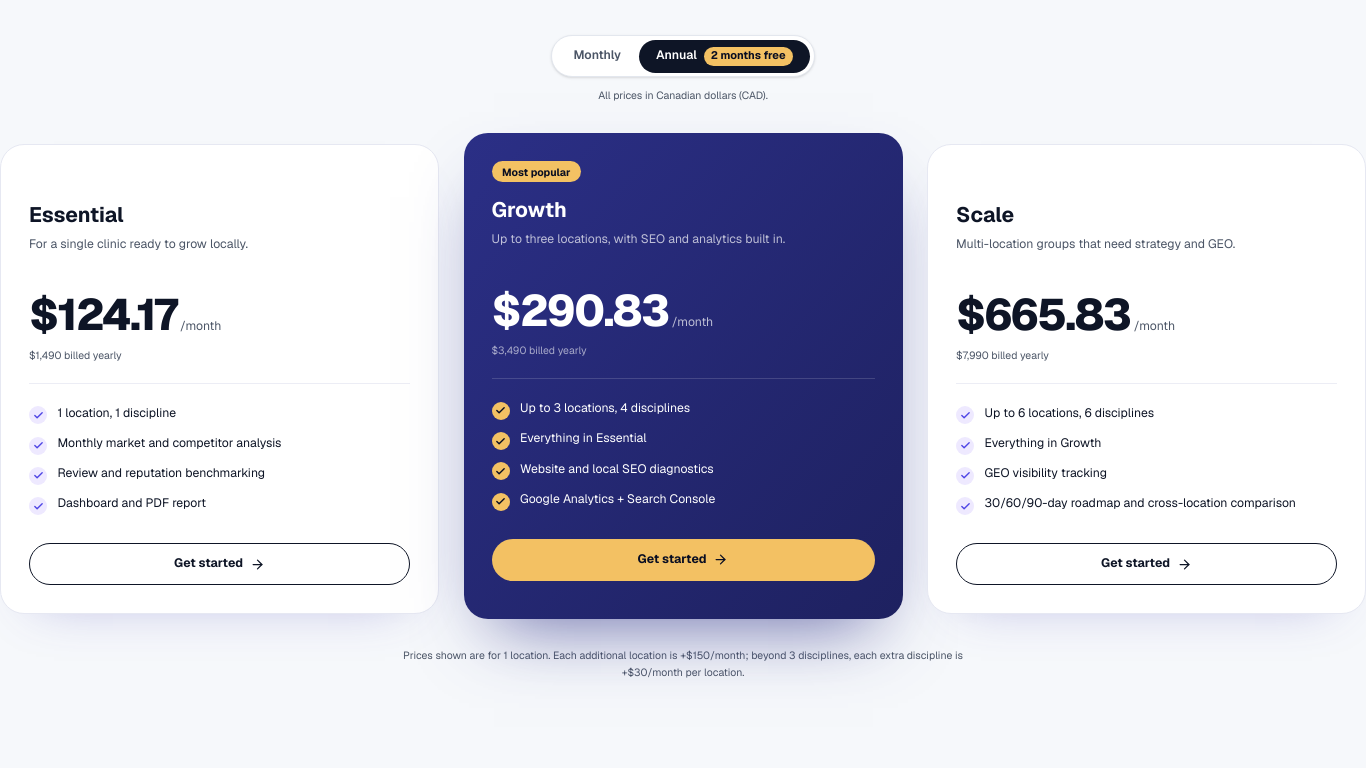
Test case: plans › shows annual per-month prices first and switches to monthly prices
This screenshot has width=1366, height=768.
Check: the text "$124.17" is shown, box [29,286,176,343]
Check: the text "$3,490 billed yearly" is shown, box [492,343,587,357]
What coordinates should you click on to do the following:
click the button "Monthly"
I would click on:
 (597, 56)
Its box is [556,40,639,73].
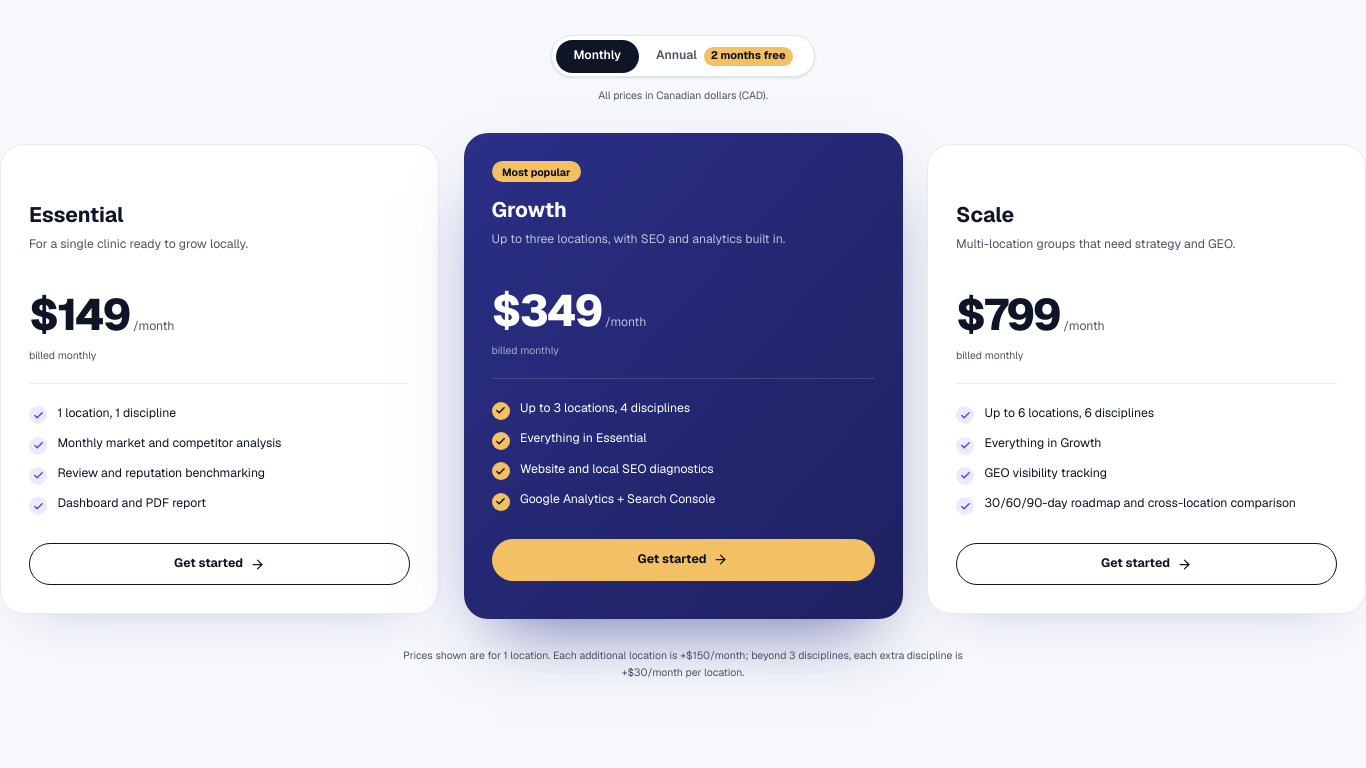
Check: the text "billed monthly" is shown 3 times, box [29,348,96,362]; [492,343,559,357]; [956,348,1024,362]
Check: the text "$149" is shown, box [29,286,130,343]
